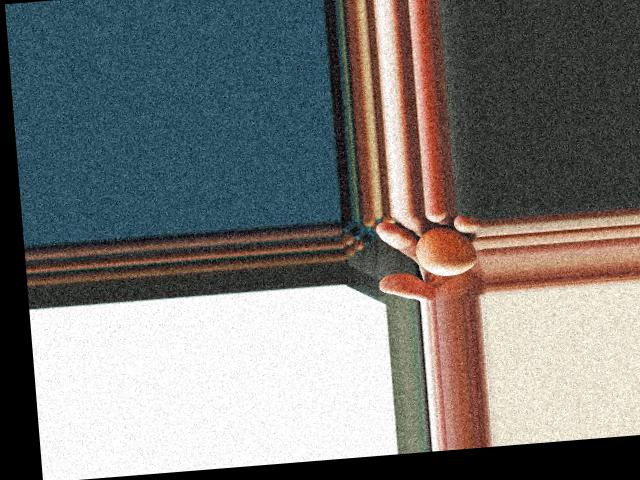egg: (414, 222, 479, 277)
